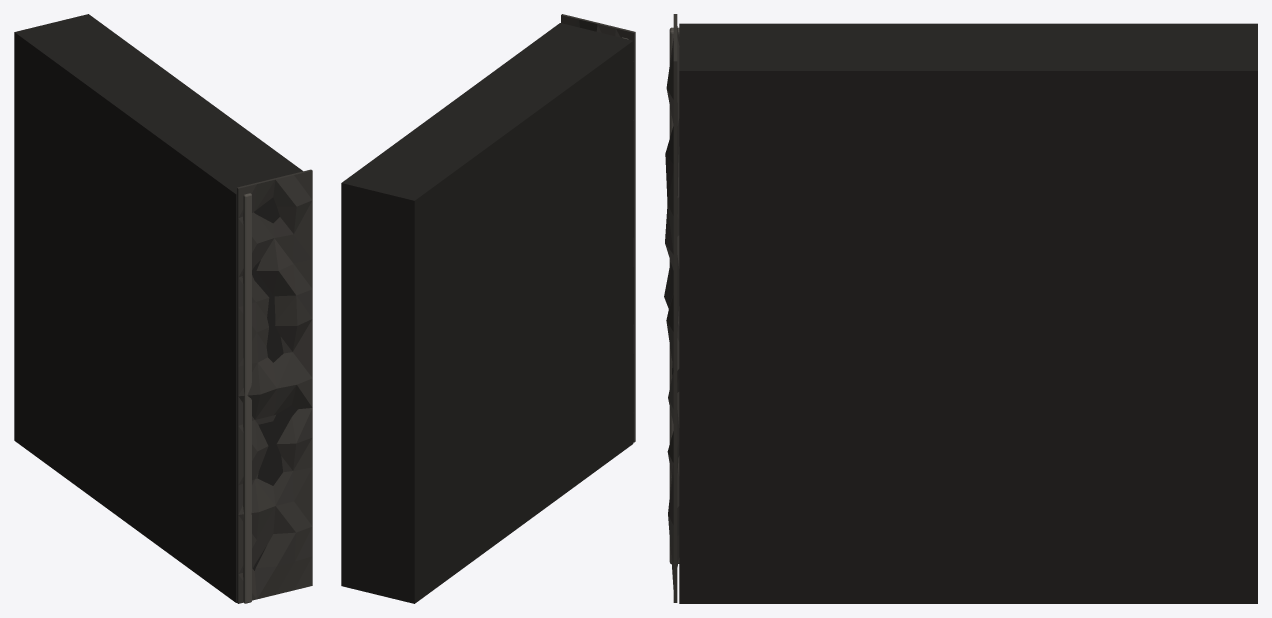
The model's file is shelter_living_concrete_normal_right.glb.
The picture shows the model from 3 angles, left to right: view 1: azimuth 30°, elevation 25°; view 2: azimuth 150°, elevation 25°; view 3: azimuth 270°, elevation 25°; orthographic projection. The views are drawn at different scales.
Visible parts, largest first — view 1: shelter_living_concrete_normal_right; view 2: shelter_living_concrete_normal_right; view 3: shelter_living_concrete_normal_right.
Boxes of the visible parts, x1=… form: shelter_living_concrete_normal_right: x1=14, y1=14, x2=312, y2=603; shelter_living_concrete_normal_right: x1=341, y1=14, x2=635, y2=603; shelter_living_concrete_normal_right: x1=664, y1=14, x2=1257, y2=603.
Bounding box in the file's own units: 0.58 × 3.1 × 3.08.
1 material, 1 textured.
